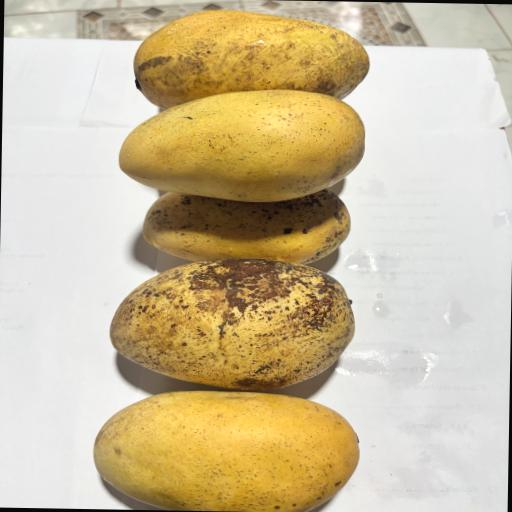fruit: (88, 240, 368, 394), (80, 377, 393, 512), (86, 78, 381, 204), (116, 6, 377, 106), (130, 166, 359, 272)
